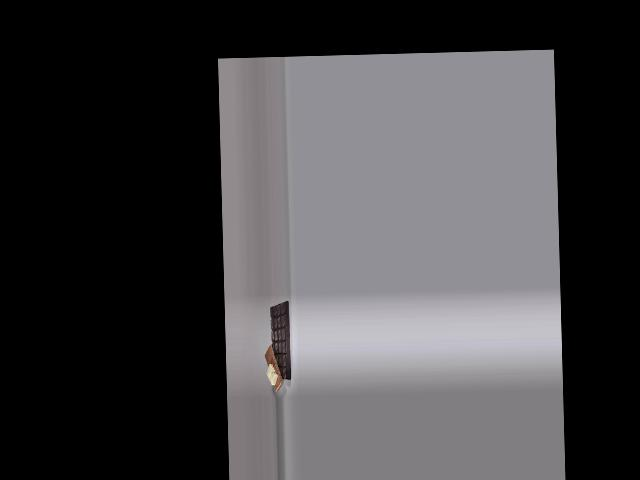chocolate: (267, 300, 293, 385)
